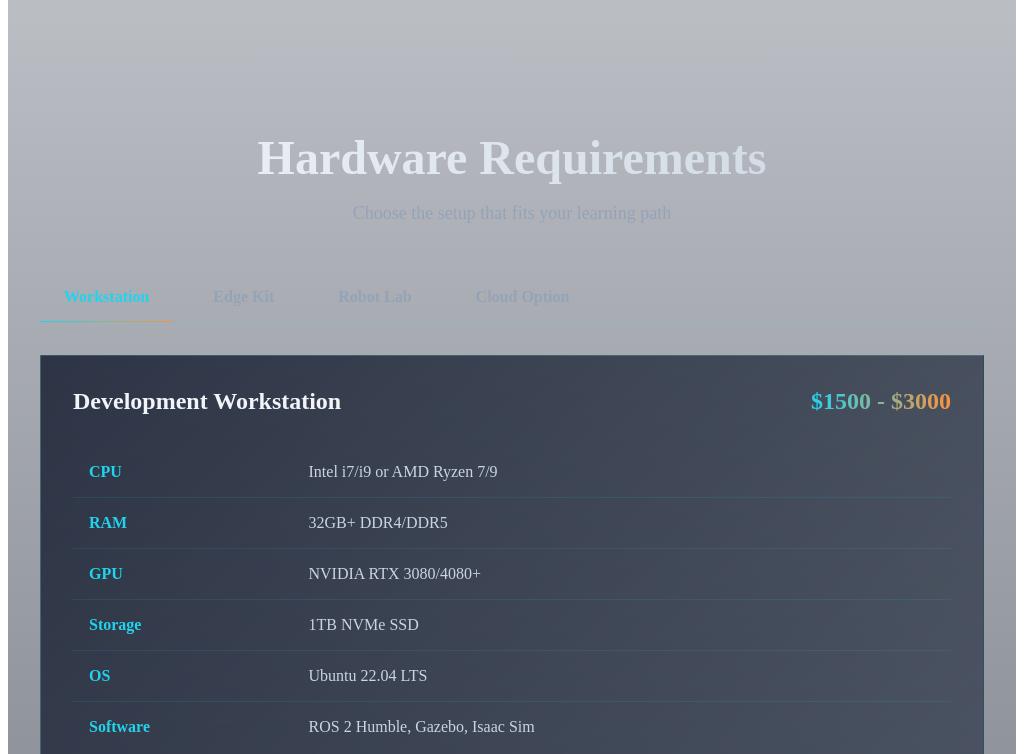
Test: HardwareTabs Component › should display cloud option advantages
Click the button "Cloud Option" at (522, 297), box [452,272,593,322]
(page scrolled)
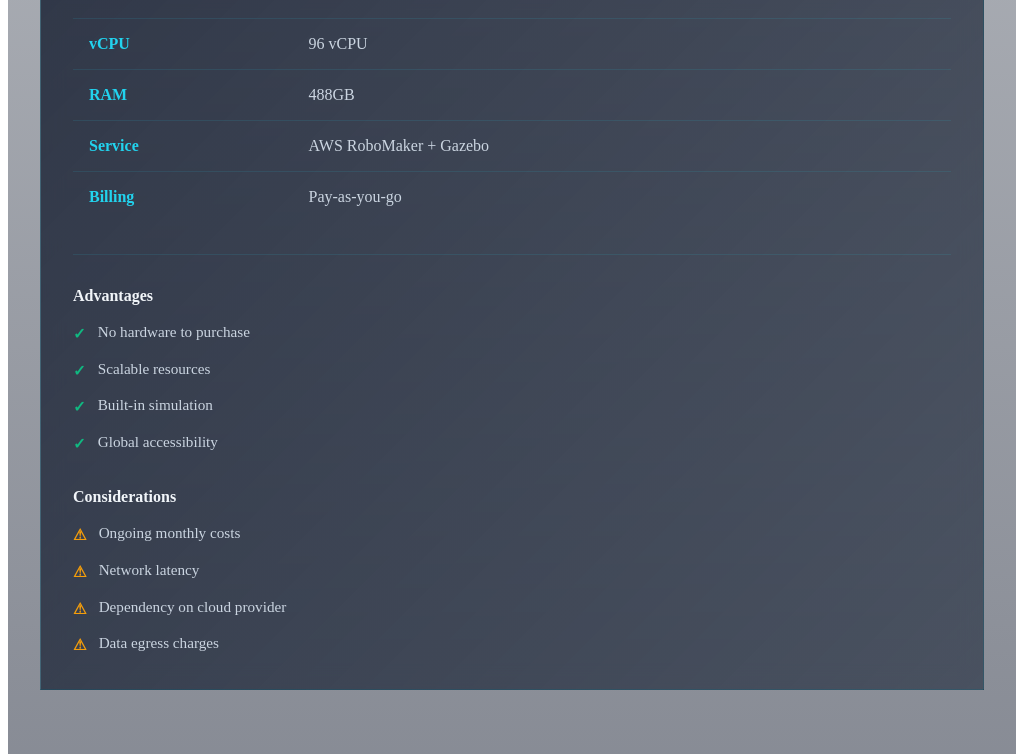
Expected: the list item "✓ No hardware to purchase" is shown, [73,323,250,342]
Expected: the list item "✓ Scalable resources" is shown, [73,360,210,379]
